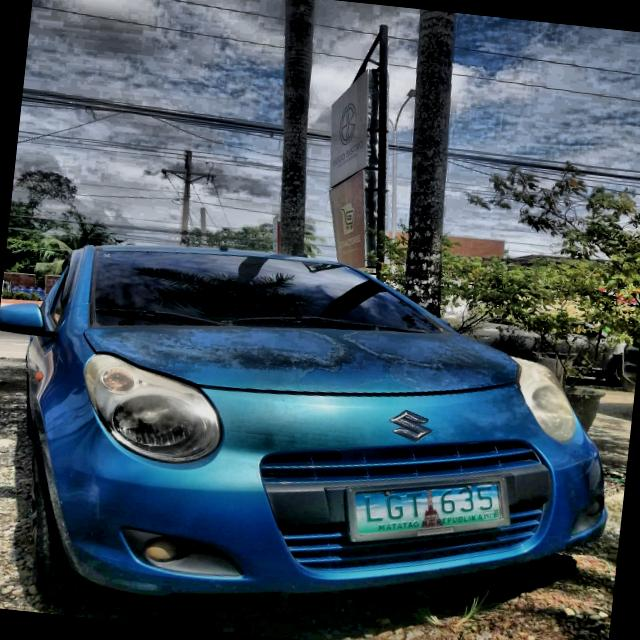license-plate: (346, 469, 509, 543)
